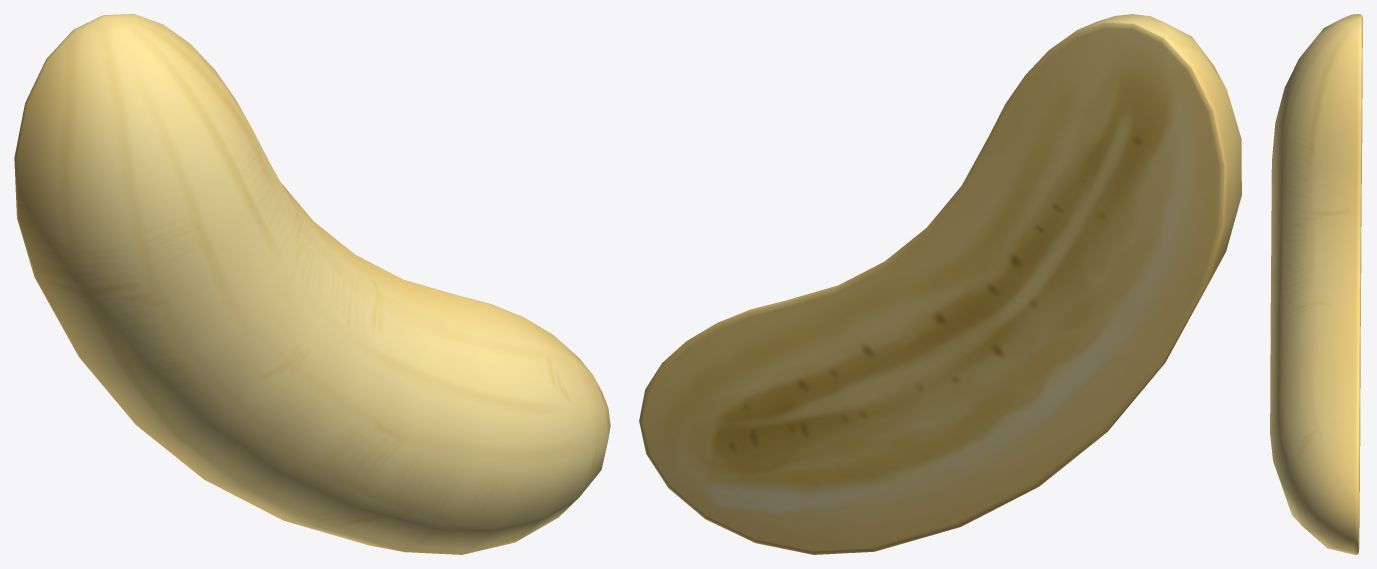
Rendered from banana.fbx.
The picture shows the model from 3 angles, left to right: view 1: azimuth 30°, elevation 25°; view 2: azimuth 150°, elevation 25°; view 3: azimuth 270°, elevation 25°; orthographic projection. The views are drawn at different scales.
Parts seen in each view (by area): view 1: Capsule001; view 2: Capsule001; view 3: Capsule001.
Part boxes in pixels (x1,y1,x2,y2): Capsule001: [14, 14, 610, 554]; Capsule001: [639, 14, 1241, 554]; Capsule001: [1270, 14, 1362, 554].
Bounding box in the file's own units: 30.05 × 30.04 × 6.24.
1 material, 1 textured.
